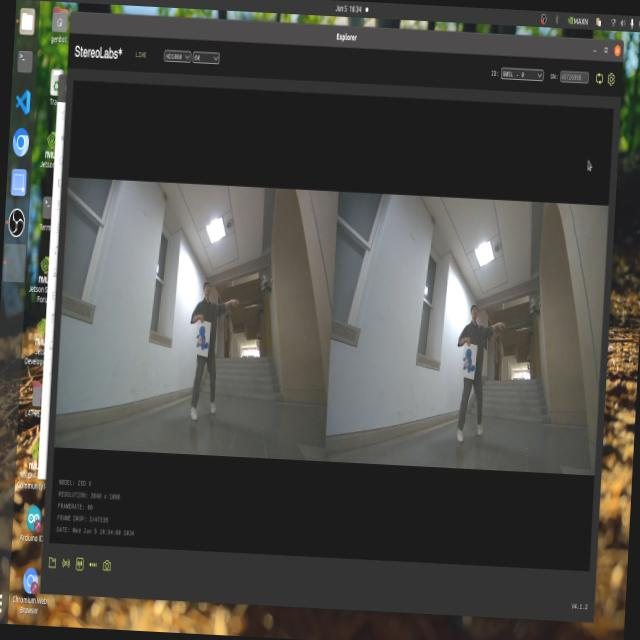blue: (461, 348, 476, 380), (196, 324, 210, 358)
